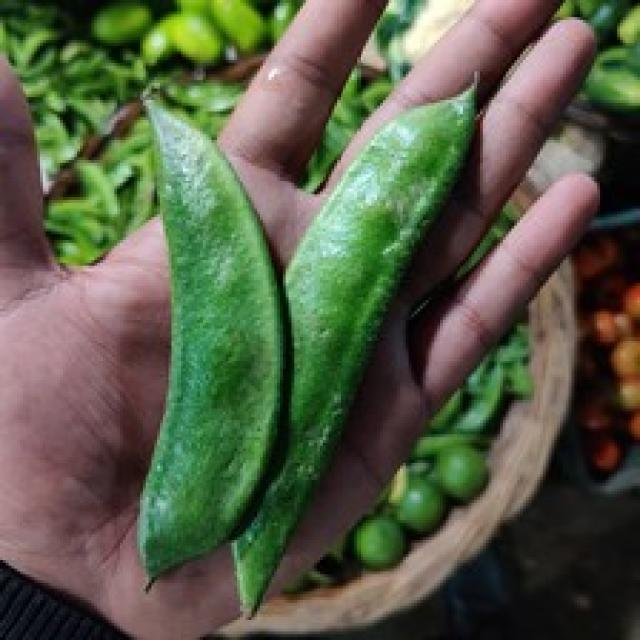Bean: (229, 72, 480, 617), (133, 94, 280, 578)
